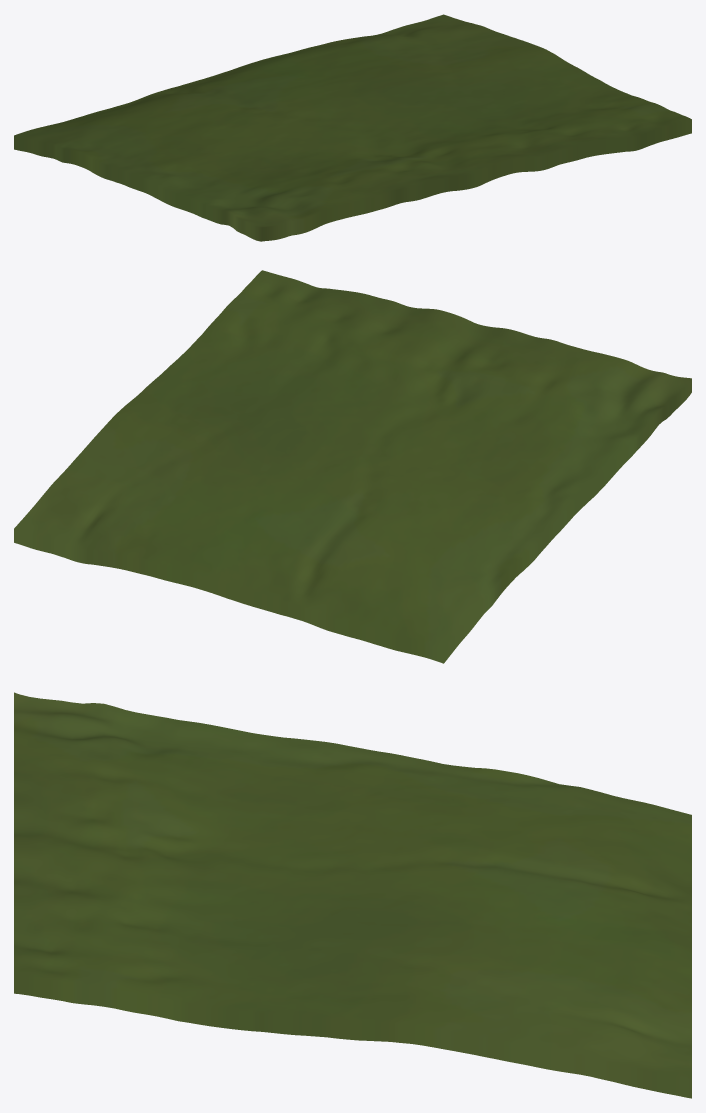
File: terrain_10_-9.glb
3 views of the same model, one above another, from view 1: azimuth 30°, elevation 25°; view 2: azimuth 150°, elevation 25°; view 3: azimuth 270°, elevation 25° (orthographic). The views are drawn at different scales.
Parts seen in each view (by area): view 1: terrain_10_-9; view 2: terrain_10_-9; view 3: terrain_10_-9.
Boxes of the visible parts, bbox=[...] form: terrain_10_-9: bbox=[14, 14, 691, 241]; terrain_10_-9: bbox=[14, 270, 691, 663]; terrain_10_-9: bbox=[14, 692, 691, 1098].
Size of the model in its own units: 256 by 62.93 by 256.
